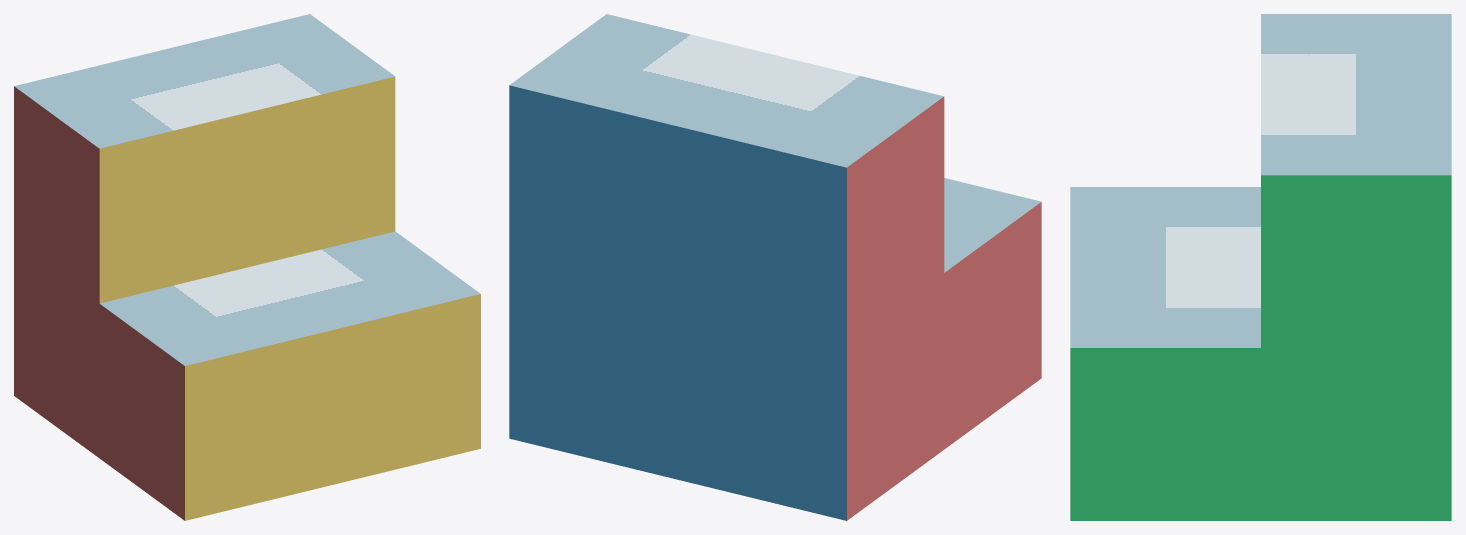
File: stair (embedded).fbx
The picture shows the model from 3 angles, left to right: view 1: azimuth 30°, elevation 25°; view 2: azimuth 150°, elevation 25°; view 3: azimuth 270°, elevation 25°; orthographic projection. The views are drawn at different scales.
Parts seen in each view (by area): view 1: cube, cube_1; view 2: cube_1, cube; view 3: cube, cube_1.
Part boxes in pixels (bbox=[...]): cube: bbox=[14, 231, 480, 520]; cube_1: bbox=[14, 14, 395, 303]; cube_1: bbox=[509, 14, 944, 344]; cube: bbox=[509, 178, 1041, 520]; cube: bbox=[1070, 187, 1451, 520]; cube_1: bbox=[1261, 14, 1451, 347].
Bounding box in the file's own units: 25 × 25 × 25.
Materials: 1 (1 with a texture image).
